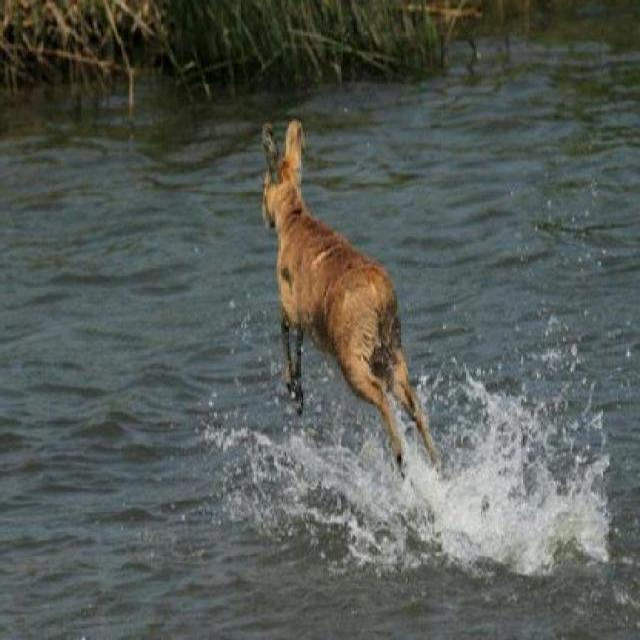deer: (252, 110, 443, 498)
